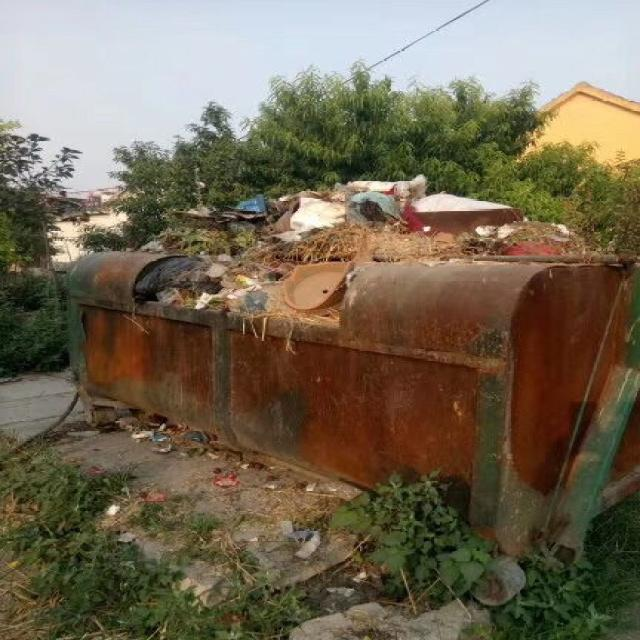overflow: (62, 172, 639, 554)
